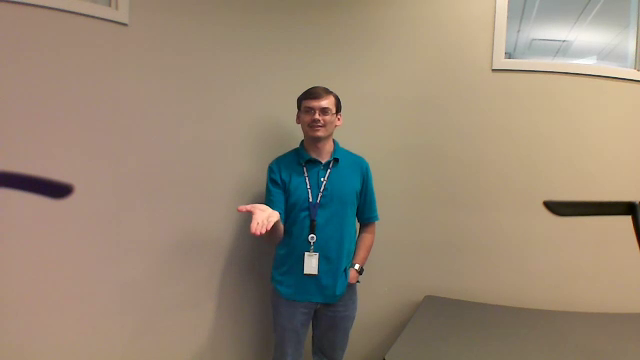land: (232, 200, 282, 239)
